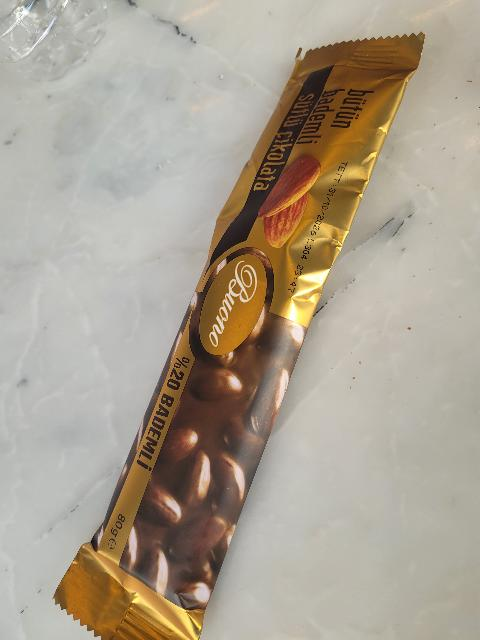Plastik: (55, 29, 417, 640)
